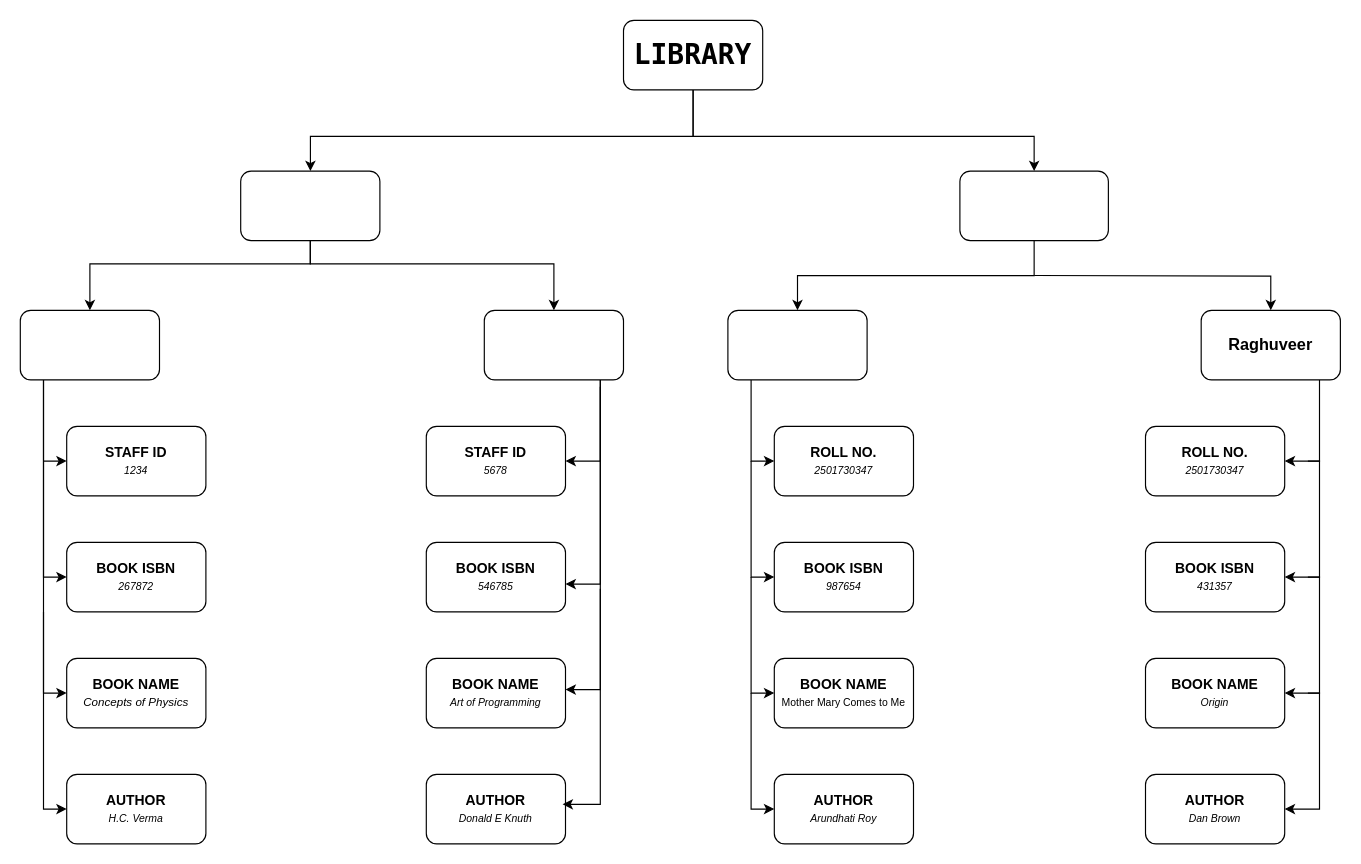
Some shapes in this 1361 by 864 pixel diagram are drawn without their labels. Each missing label, with the centre of its shape:
"Aryan Solanki" goes at point 797,344.
"Shiv" goes at point 553,344.
"Shweta" goes at point 89,344.
"STAFF" goes at point 310,205.
"STUDENTS" goes at point 1033,205.
